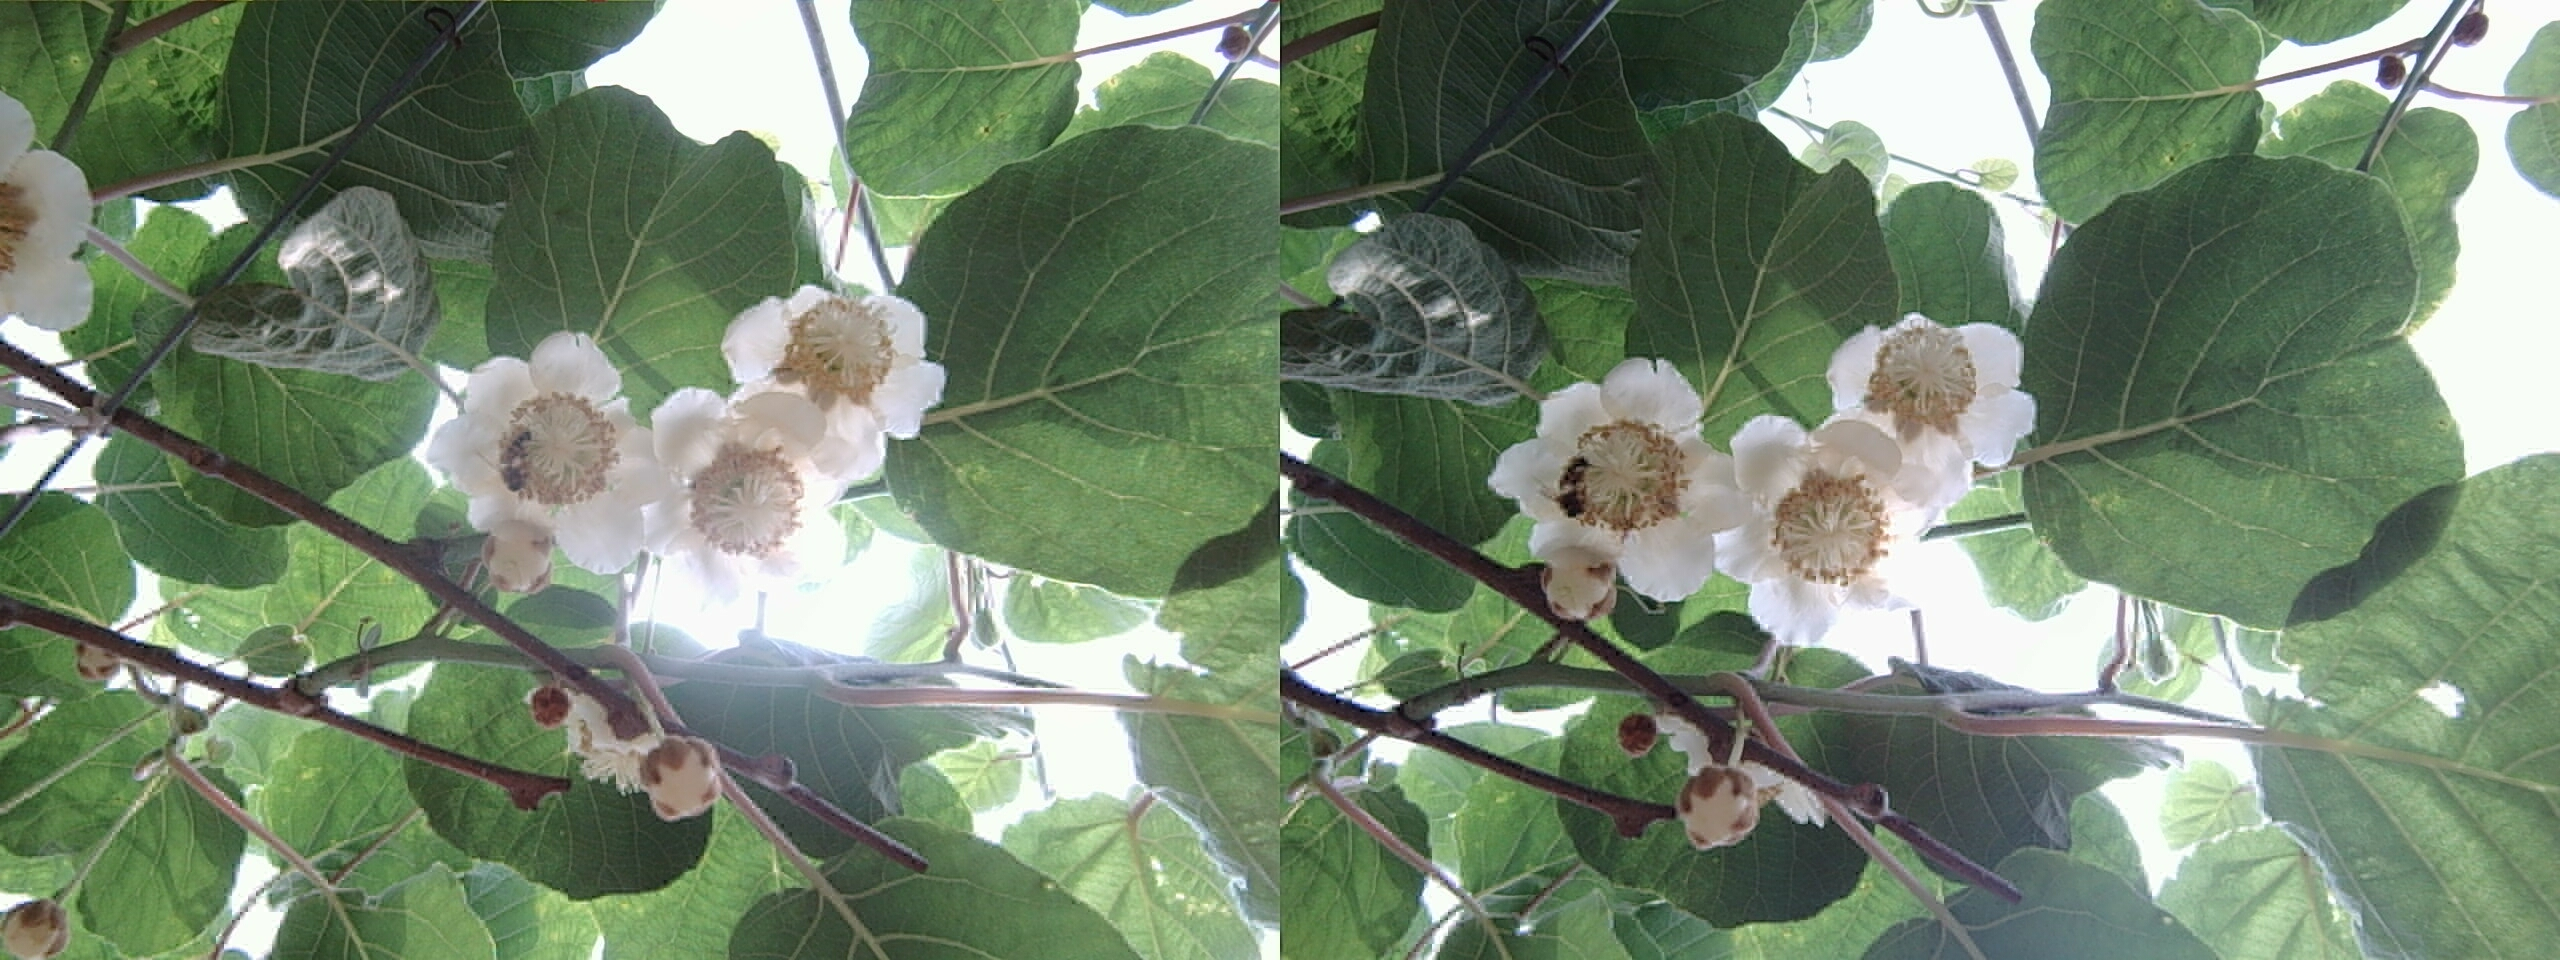flower: (1494, 348, 1739, 609), (426, 320, 669, 581), (1704, 403, 1941, 638), (632, 372, 872, 586), (718, 273, 947, 464), (1817, 300, 2031, 485), (2, 129, 96, 325)
